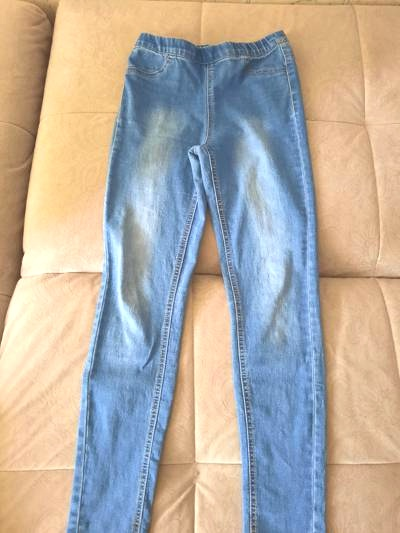Pants: (56, 15, 351, 531)
